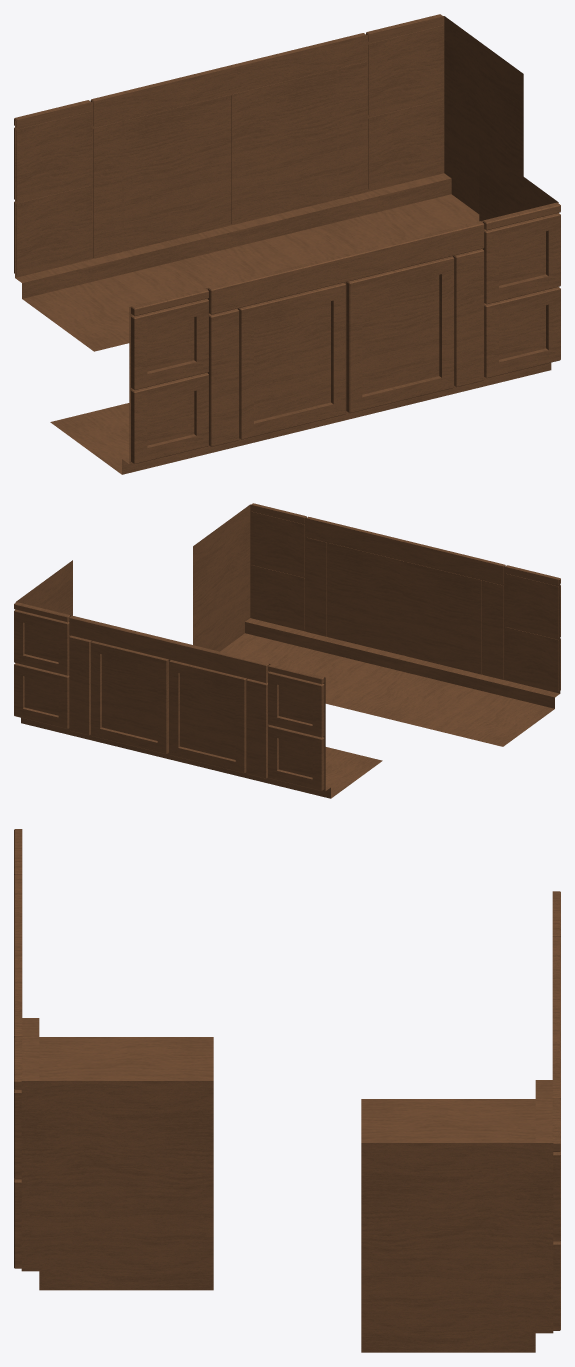
File: 2345_Bathroom_Cabinets_Truffle.gltf
3 views of the same model, one above another, from view 1: azimuth 30°, elevation 25°; view 2: azimuth 150°, elevation 25°; view 3: azimuth 270°, elevation 25° (orthographic). The views are drawn at different scales.
Visible parts, largest first — view 1: Line23790; view 2: Line23790; view 3: Line23790.
Part boxes in pixels (x1,y1,x2,y2): Line23790: (14, 14, 560, 474); Line23790: (14, 503, 560, 798); Line23790: (14, 829, 560, 1352).
Size of the model in its own units: 3.56 by 1.1 by 2.6.
1 material, 1 textured.
